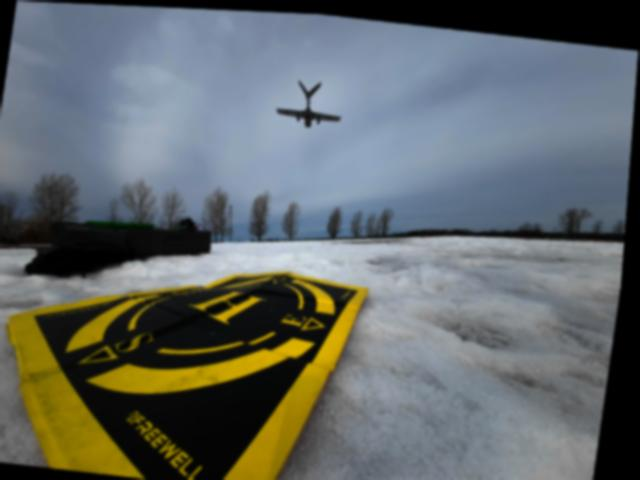plane: (276, 75, 346, 127)
